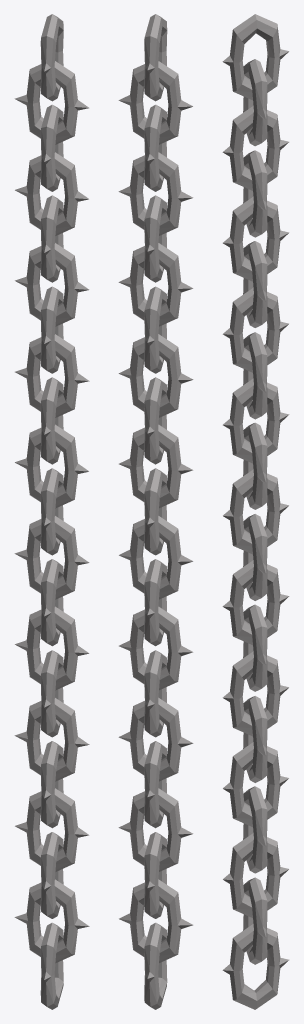
The model's file is ChainLengthSmall.fbx.
3 renders of one model, left to right at view 1: azimuth 30°, elevation 25°; view 2: azimuth 210°, elevation 25°; view 3: azimuth 330°, elevation 25°, orthographic.
Visible parts, largest first — view 1: ChainLengthSmall; view 2: ChainLengthSmall; view 3: ChainLengthSmall.
Boxes of the visible parts, bbox=[...] form: ChainLengthSmall: bbox=[14, 14, 89, 1009]; ChainLengthSmall: bbox=[118, 14, 193, 1009]; ChainLengthSmall: bbox=[222, 14, 289, 1009].
Size of the model in its own units: 9.08 by 178 by 8.65.
